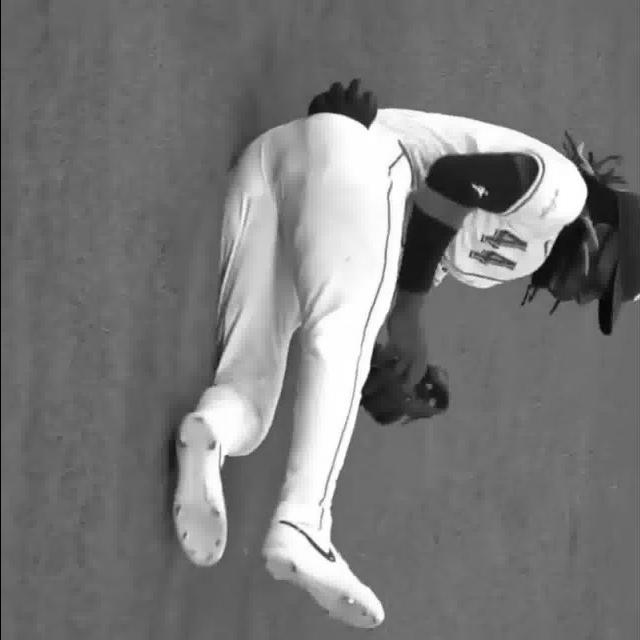baseball_glove: (352, 366, 457, 435)
shoe: (261, 519, 381, 629), (170, 411, 231, 568)
